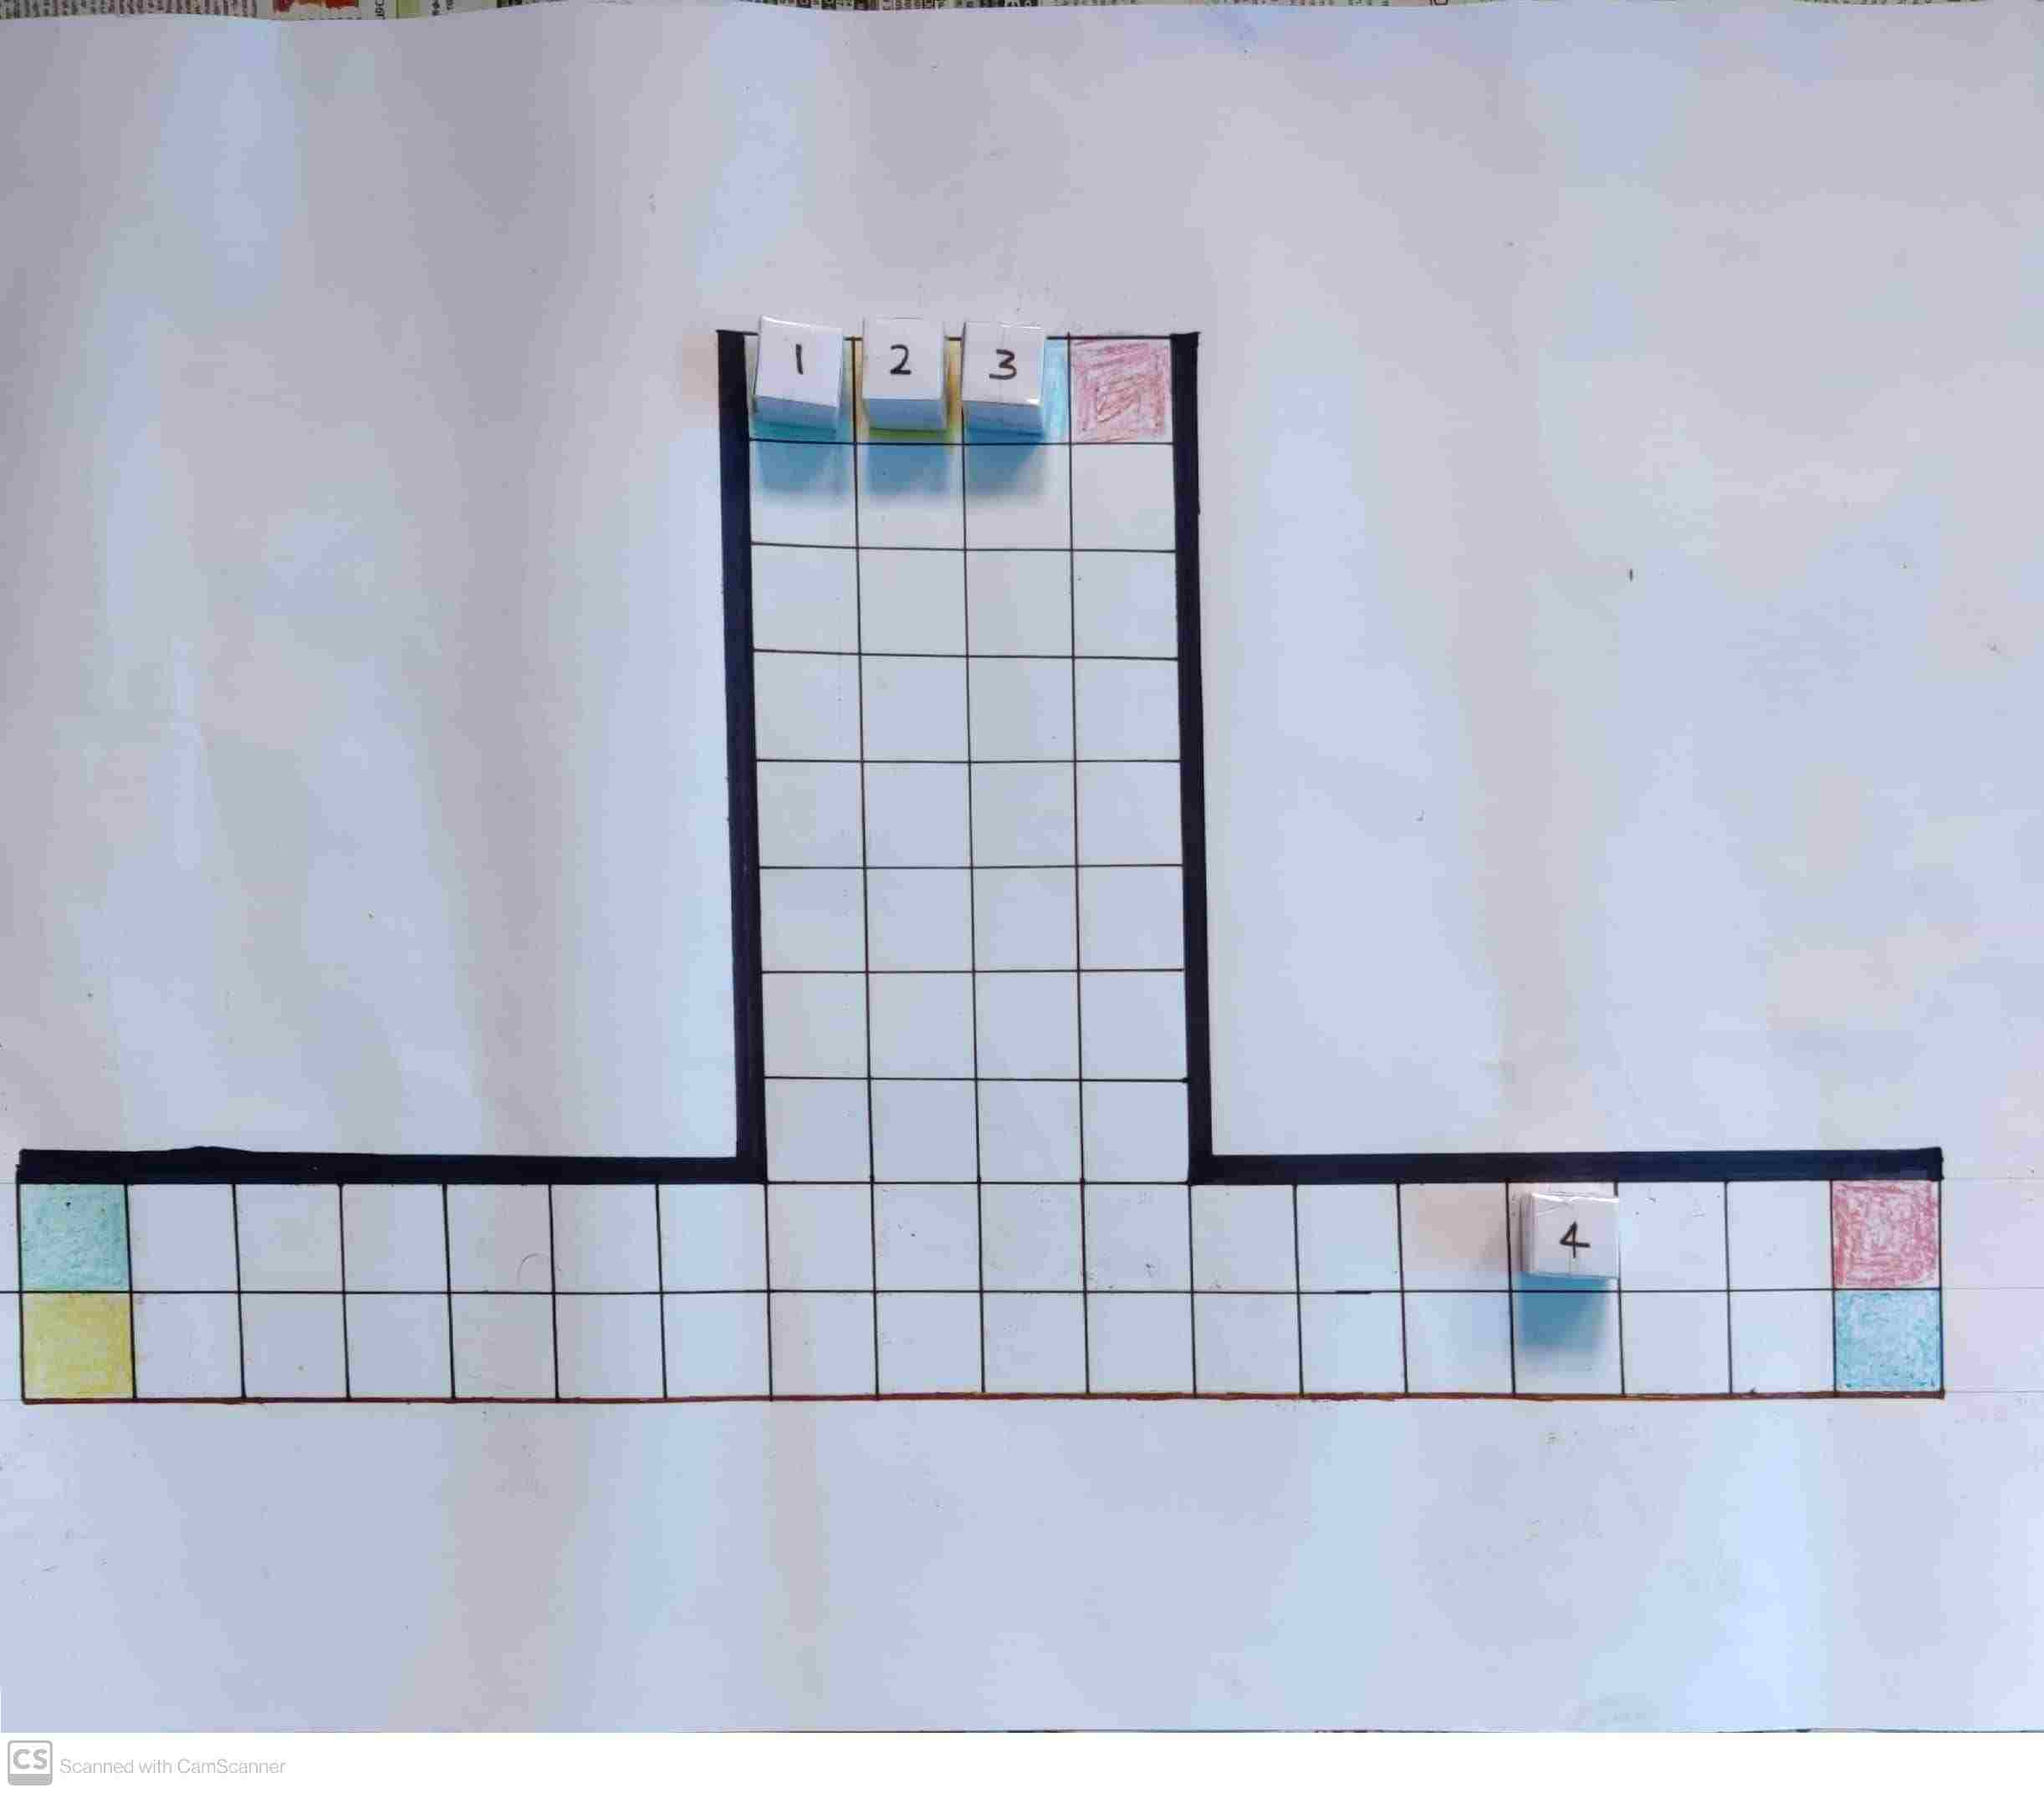arena: (23, 328, 1947, 1399)
bot: (1528, 1194, 1620, 1277), (758, 314, 845, 401), (959, 320, 1046, 403), (862, 321, 946, 398)
